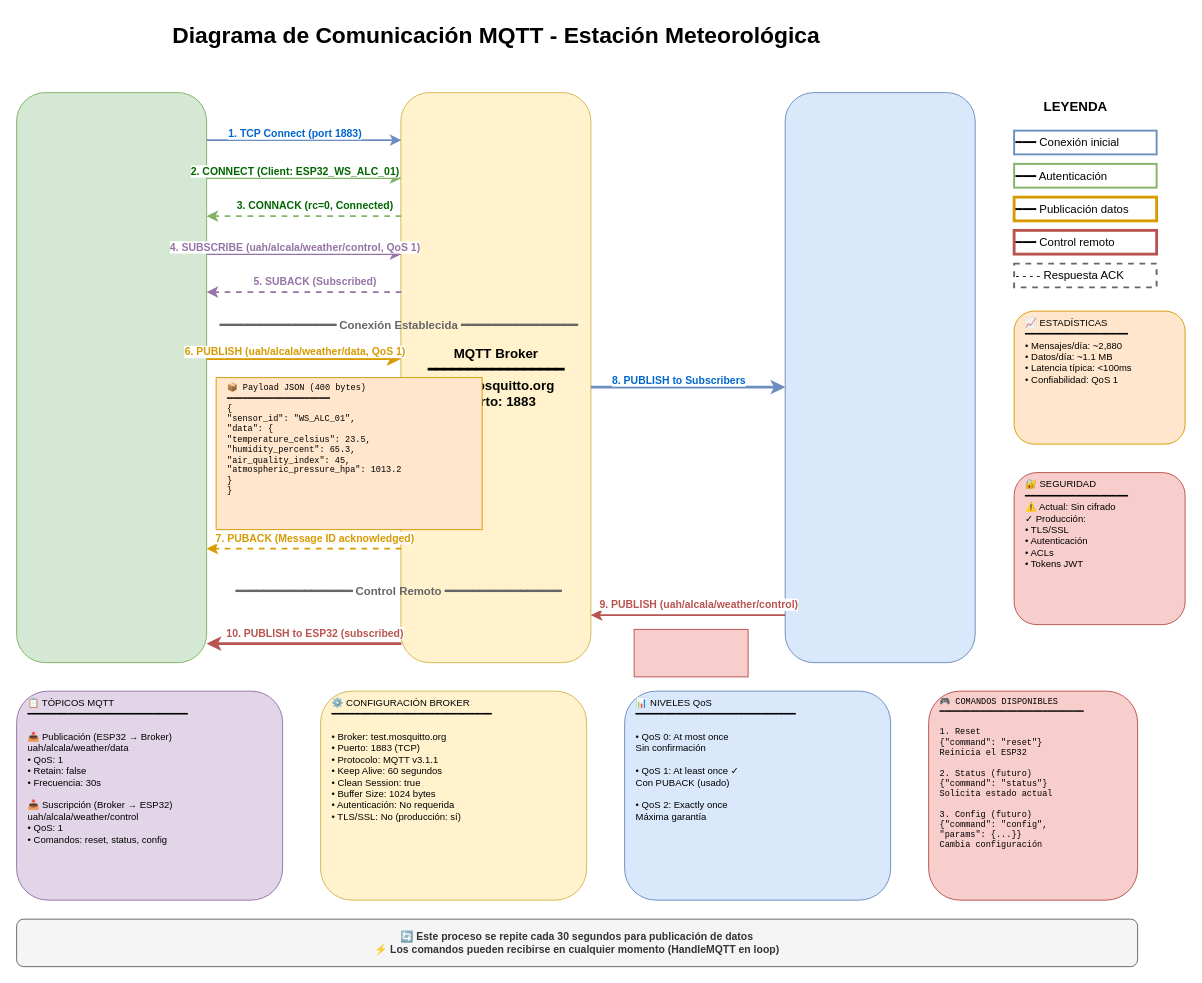
This 1202x983 diagram has some shape labels left out. The shapes that lost their labels are listed below. From the top down, each one's centre as x and y in pixels, then its label:
(x=111, y=377): ESP32 Weather Station ━━━━━━━━━━━━ WS_ALC_01
(x=879, y=377): Clientes MQTT ━━━━━━━━━━━━ Dashboard Analytics Monitoring
(x=690, y=652): 🎮 Comando {"command": "reset"}
